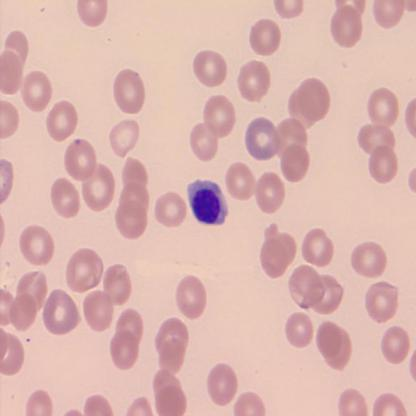NRC: (186, 178, 230, 228)
